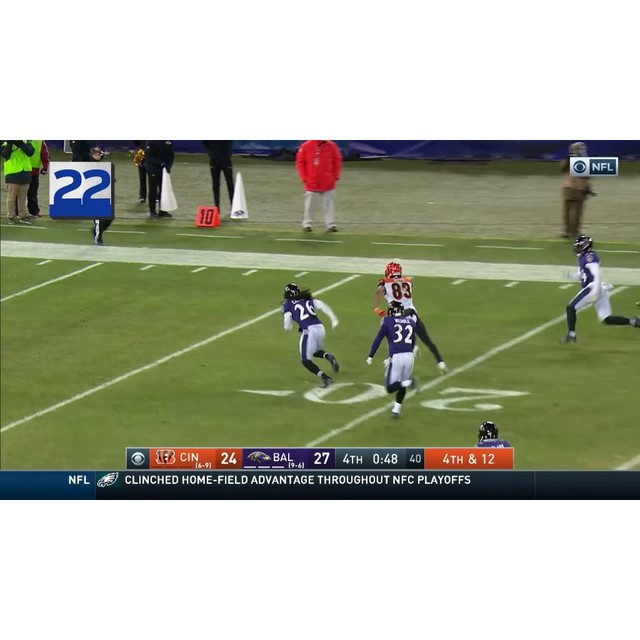american-football-player: (561, 235, 639, 348), (366, 262, 443, 375), (366, 297, 422, 418), (280, 283, 340, 385), (474, 421, 511, 448)
